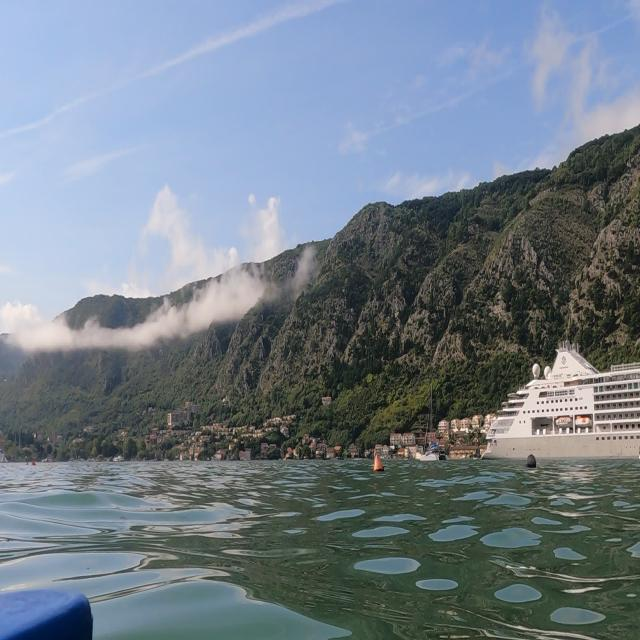boat: (479, 335, 639, 469)
buoy: (364, 448, 392, 478), (521, 450, 542, 474)
